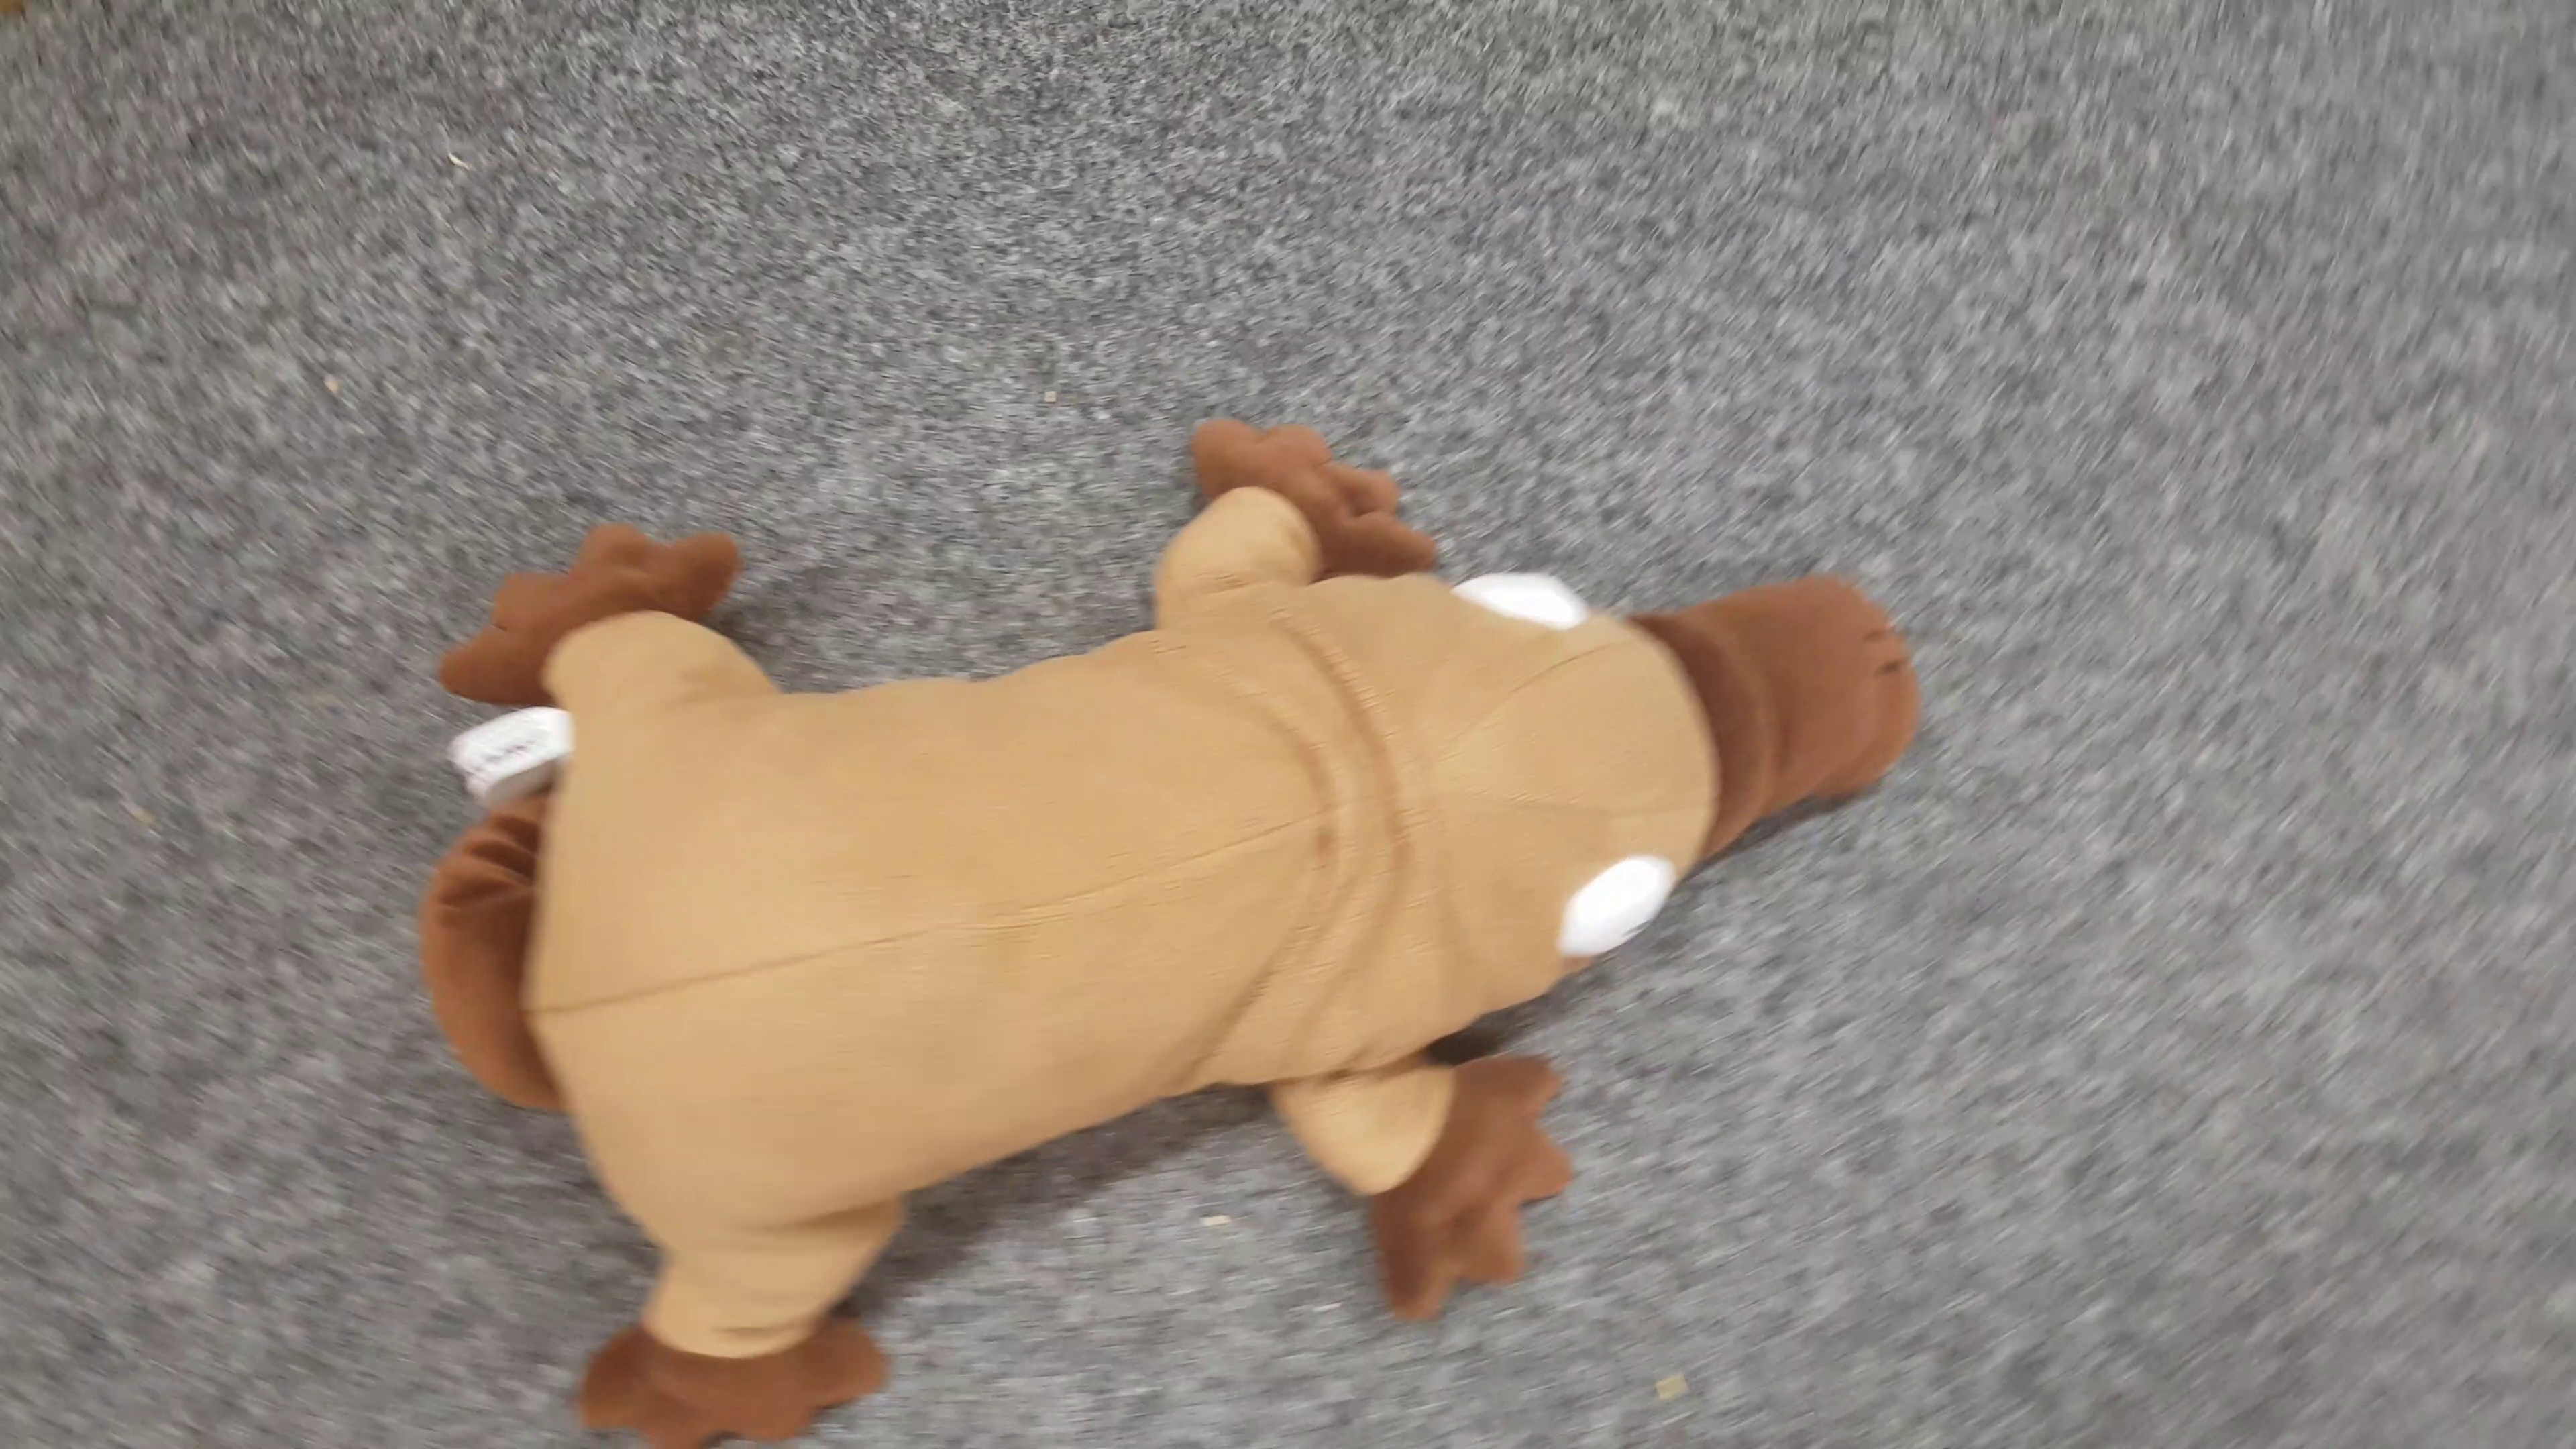grasp: (421, 410, 1921, 1449)
